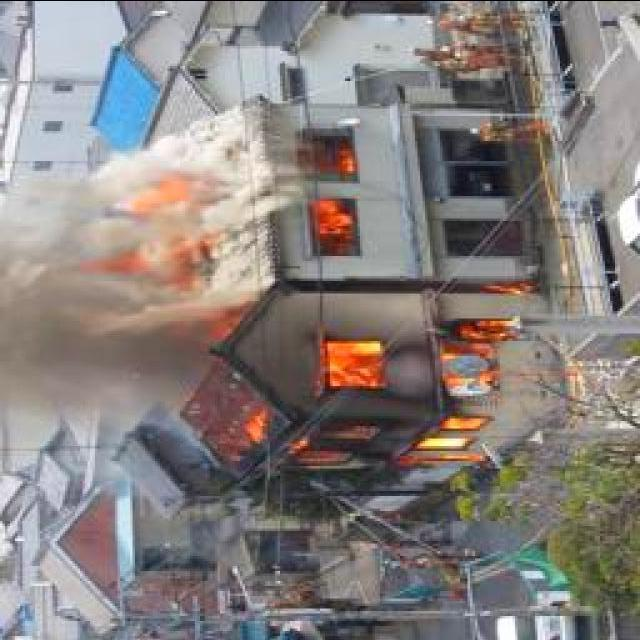Fire: (192, 307, 520, 488), (141, 172, 217, 272), (306, 118, 355, 248)
